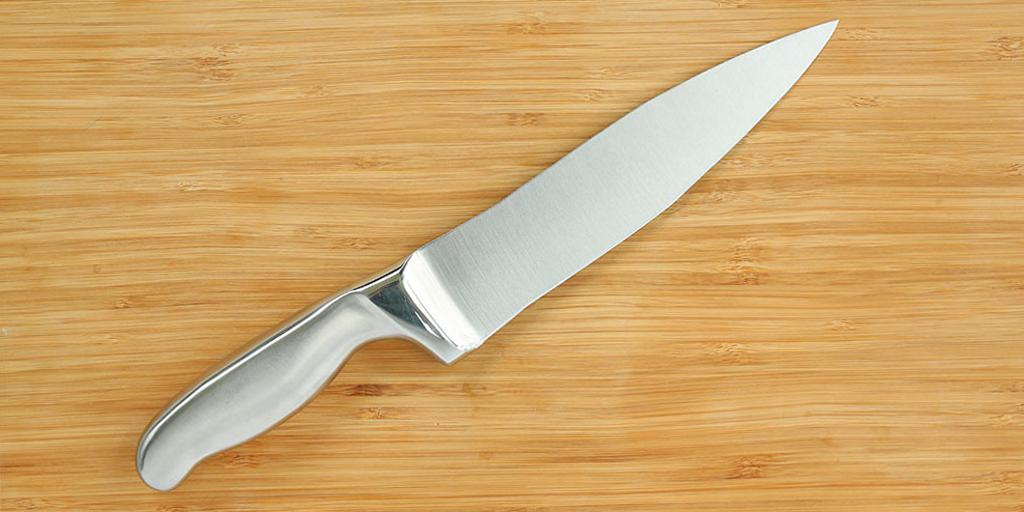knife: (137, 19, 842, 488)
